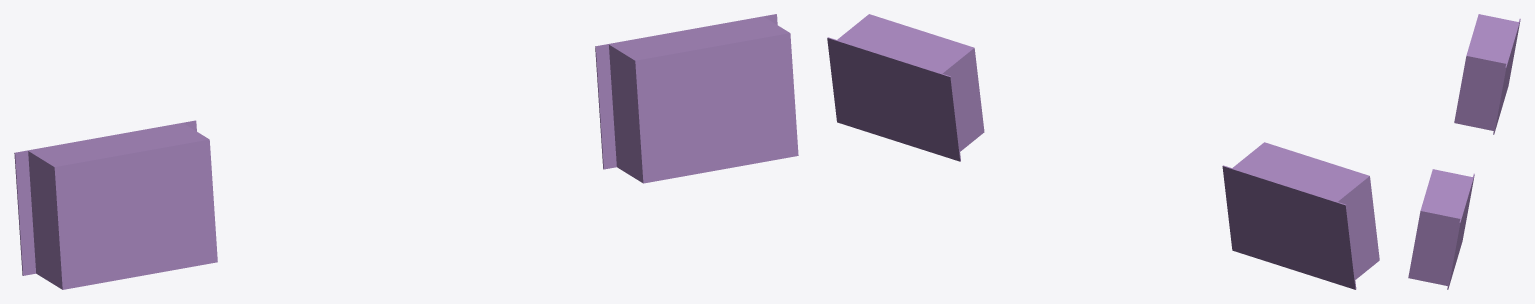
The model's file is POWER ARCHITECTURE__ELEC BOARD COMPONENTS__ELCON HK-J 6.6KW charger.glb.
The picture shows the model from 3 angles, left to right: view 1: azimuth 30°, elevation 25°; view 2: azimuth 150°, elevation 25°; view 3: azimuth 270°, elevation 25°; orthographic projection. The views are drawn at different scales.
Visible parts, largest first — view 1: ELCON HK-J 6.6KW charger; view 2: ELCON HK-J 6.6KW charger; view 3: ELCON HK-J 6.6KW charger.
Part boxes in pixels (bbox=[...]): ELCON HK-J 6.6KW charger: bbox=[14, 14, 798, 289]; ELCON HK-J 6.6KW charger: bbox=[827, 14, 1379, 289]; ELCON HK-J 6.6KW charger: bbox=[1408, 14, 1520, 289].
Bounding box in the file's own units: 1.48 × 0.2528 × 0.3411.
